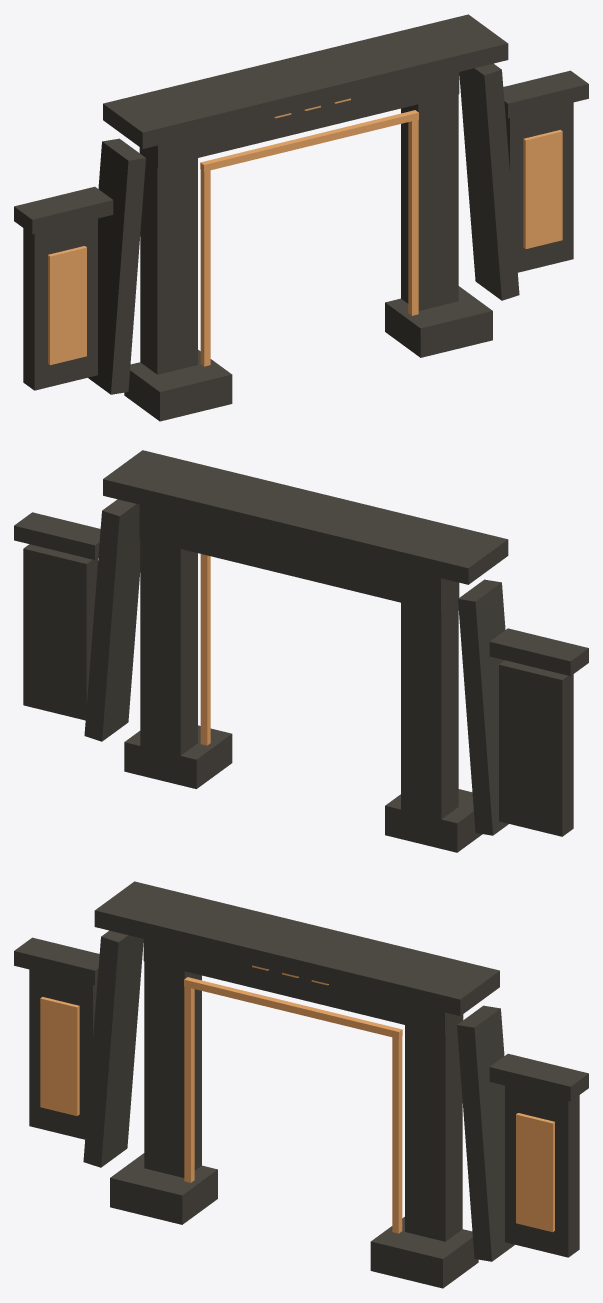
File: landmark-museum-entrance.v1.glb
3 renders of one model, top to bottom at view 1: azimuth 30°, elevation 25°; view 2: azimuth 150°, elevation 25°; view 3: azimuth 330°, elevation 25°, orthographic.
Parts seen in each view (by area): view 1: MuseumEntranceStone, MuseumEntranceAccent; view 2: MuseumEntranceStone, MuseumEntranceAccent; view 3: MuseumEntranceStone, MuseumEntranceAccent.
Part boxes in pixels (x1,y1,x2,y2): MuseumEntranceStone: [14, 14, 588, 421]; MuseumEntranceAccent: [48, 98, 562, 366]; MuseumEntranceStone: [14, 450, 588, 852]; MuseumEntranceAccent: [200, 554, 210, 745]; MuseumEntranceStone: [14, 881, 588, 1288]; MuseumEntranceAccent: [40, 965, 554, 1233].
Bounding box in the file's own units: 6.32 × 3.17 × 0.8.
